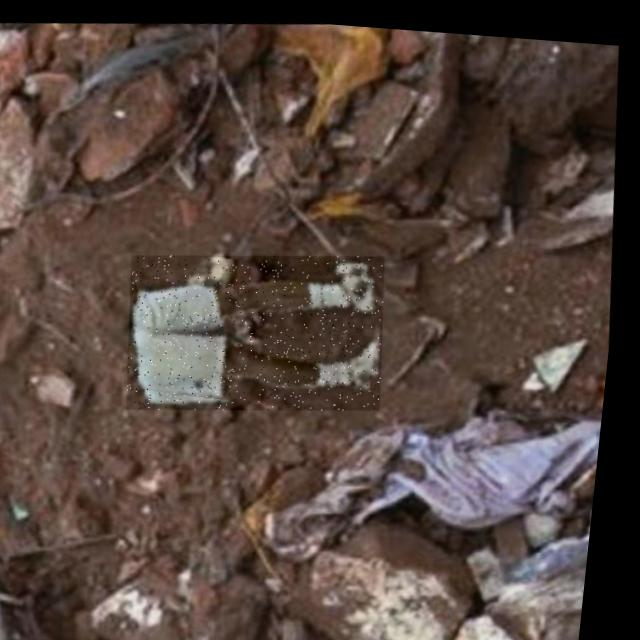Person in Rubble: (124, 234, 400, 420)
